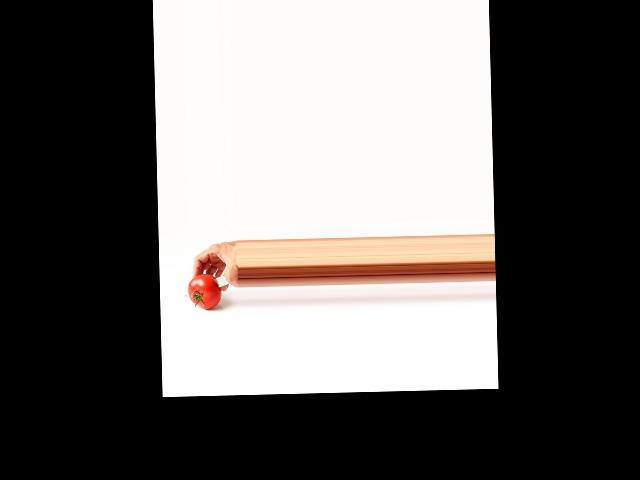tomato: (187, 273, 221, 309)
